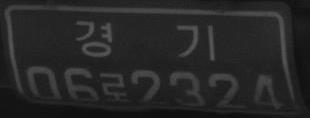0: (24, 63, 64, 101)
2: (207, 71, 248, 109), (131, 67, 167, 106)
3: (168, 69, 207, 108)
4: (250, 73, 284, 111)
6: (63, 65, 100, 104)
경기_D: (74, 19, 218, 63)
로: (100, 71, 131, 104)
